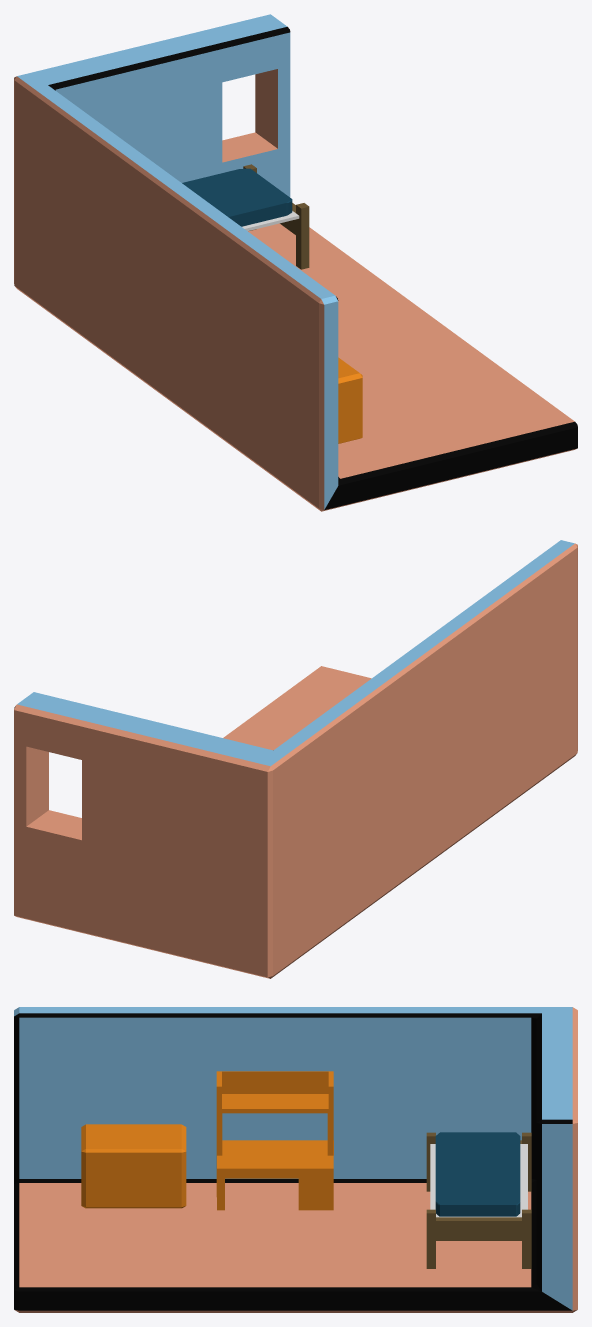
The model's file is FullSingle.glb.
3 views of the same model, one above another, from view 1: azimuth 30°, elevation 25°; view 2: azimuth 150°, elevation 25°; view 3: azimuth 270°, elevation 25° (orthographic). The views are drawn at different scales.
Parts seen in each view (by area): view 1: Plane, Mattress, Drawer, Bed Frame.003; view 2: Plane; view 3: Plane, Table, Drawer, Mattress, Bed Frame.003, Metal Frame, Bed Frame.001.
Boxes of the visible parts, x1,y1,x2,y2 form: Plane: (14,14,577,511); Mattress: (182,168,292,226); Drawer: (338,357,362,443); Bed Frame.003: (243,164,309,269); Plane: (14,540,577,978); Plane: (14,1007,577,1312); Table: (216,1071,333,1210); Drawer: (81,1124,186,1208); Mattress: (435,1132,520,1216); Bed Frame.003: (426,1209,531,1268); Metal Frame: (430,1144,527,1217); Bed Frame.001: (426,1132,531,1191).
Bounding box in the file's own units: 5.16 × 4.06 × 10.73.
